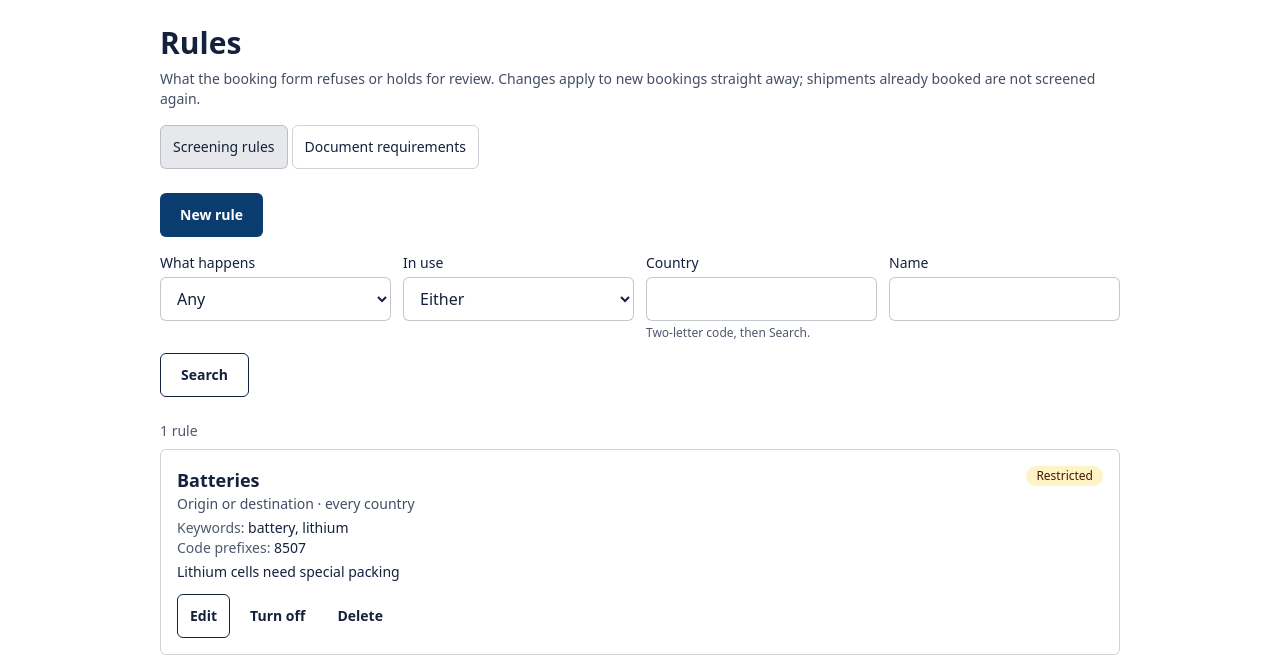
Test case: screening rules screen › edits a rule in place, starting from what it says now
The image size is (1280, 671).
(page scrolled)
Click the button named "Edit Batteries".
click(204, 616)  # box [177,594,230,638]
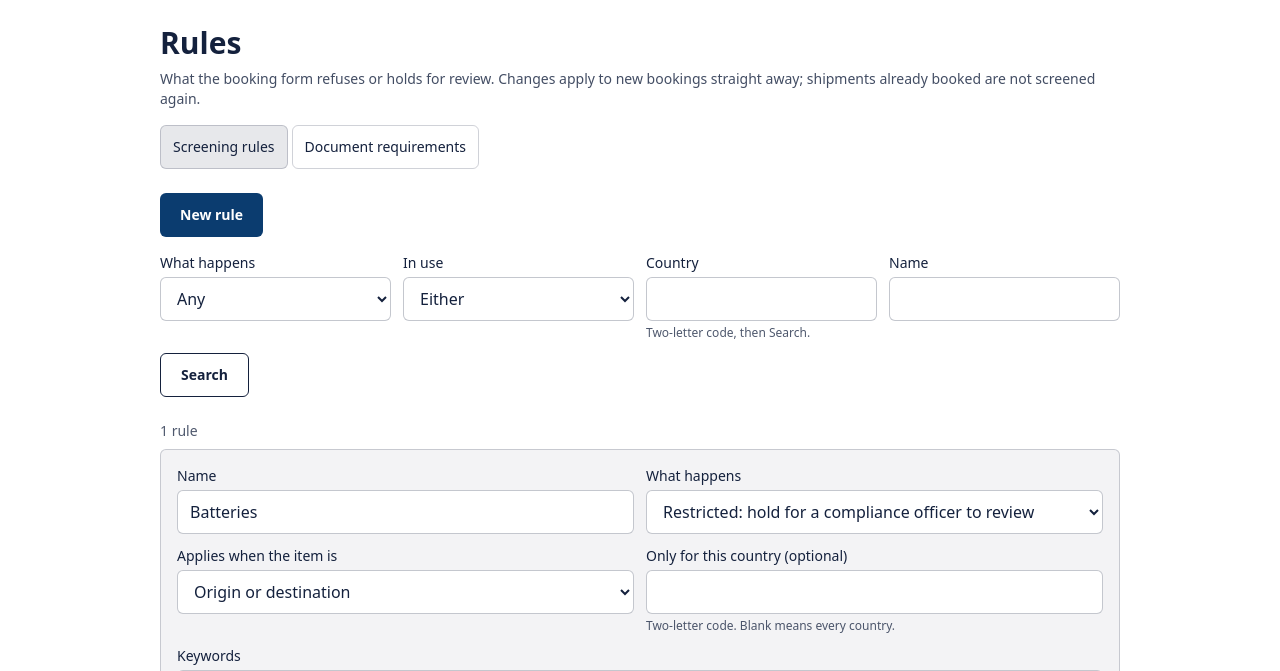
Result: the field labelled "Name" holds "Batteries" at [177,490,634,534]
Select "Prohibited: refuse the booking" in the 2nd dropdown labelled "What happens" at (874, 512), box [646,490,1103,534]
(page scrolled)
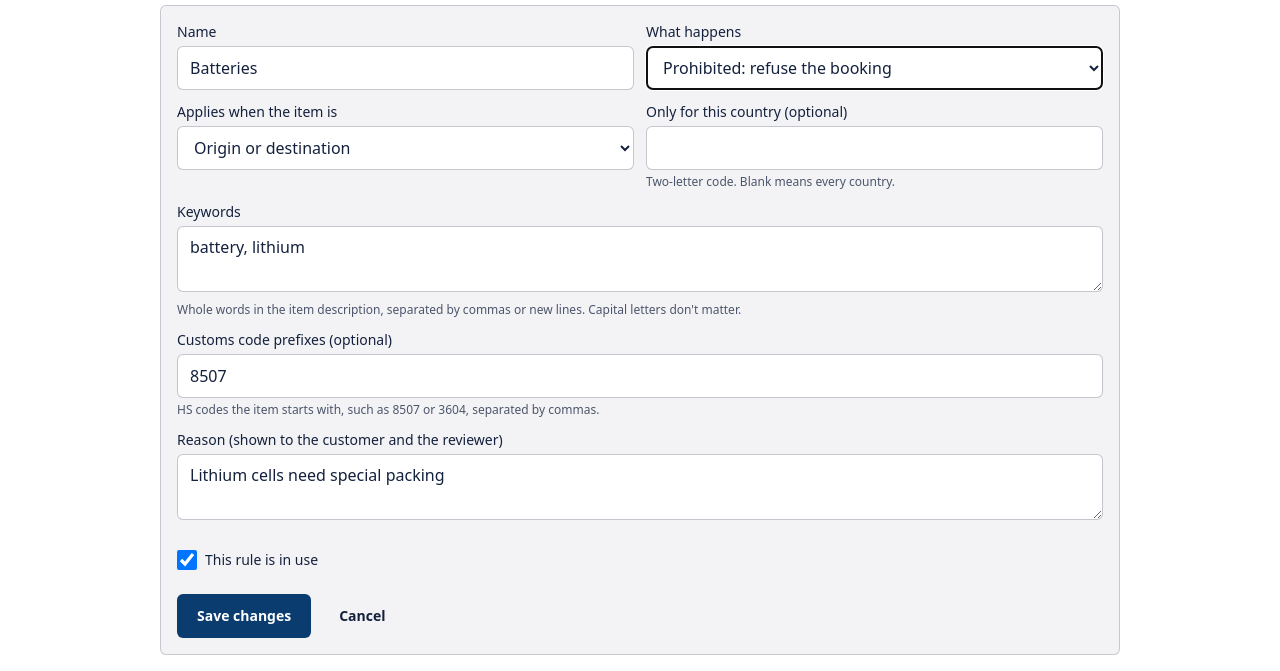
Click the button "Save changes".
click(244, 616)  # box [177,594,311,638]
(page scrolled)
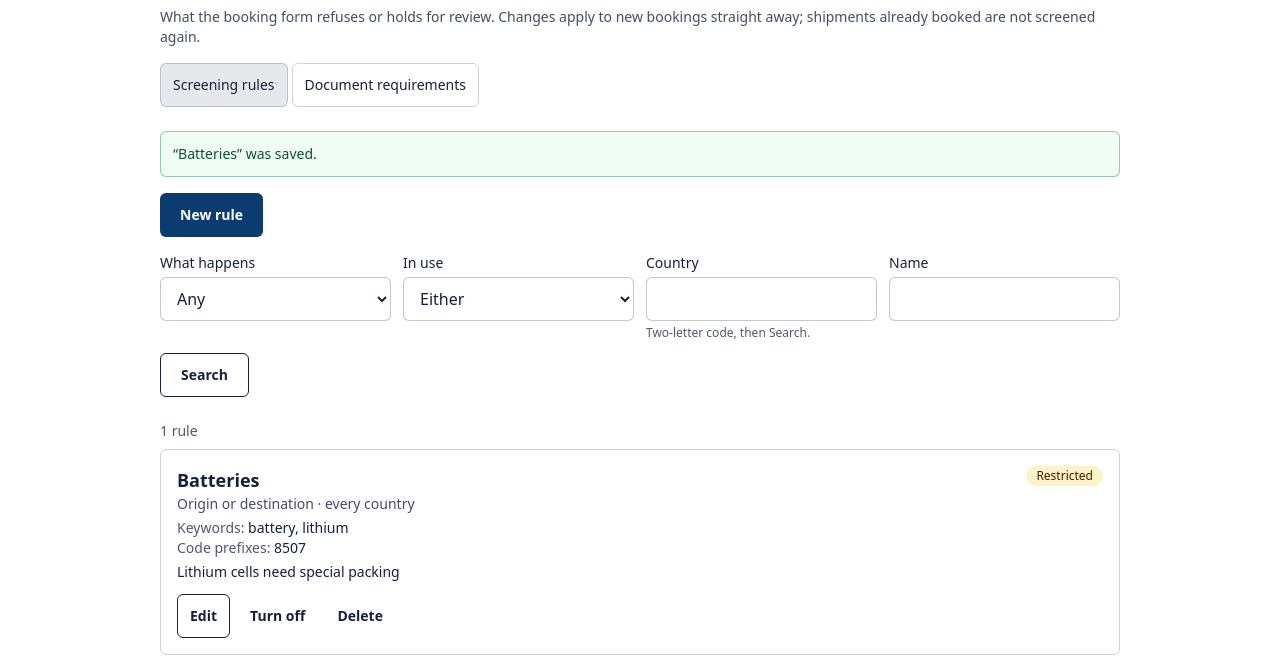
Result: the text "“Batteries” was saved." is shown at [160,131,1120,177]
